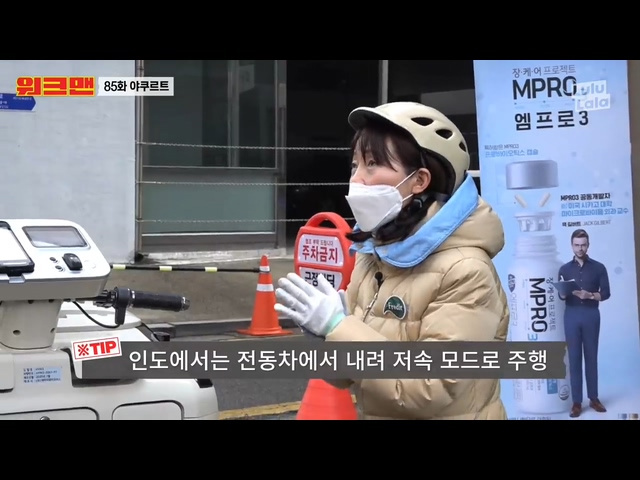Yakurut: (326, 102, 514, 340)
